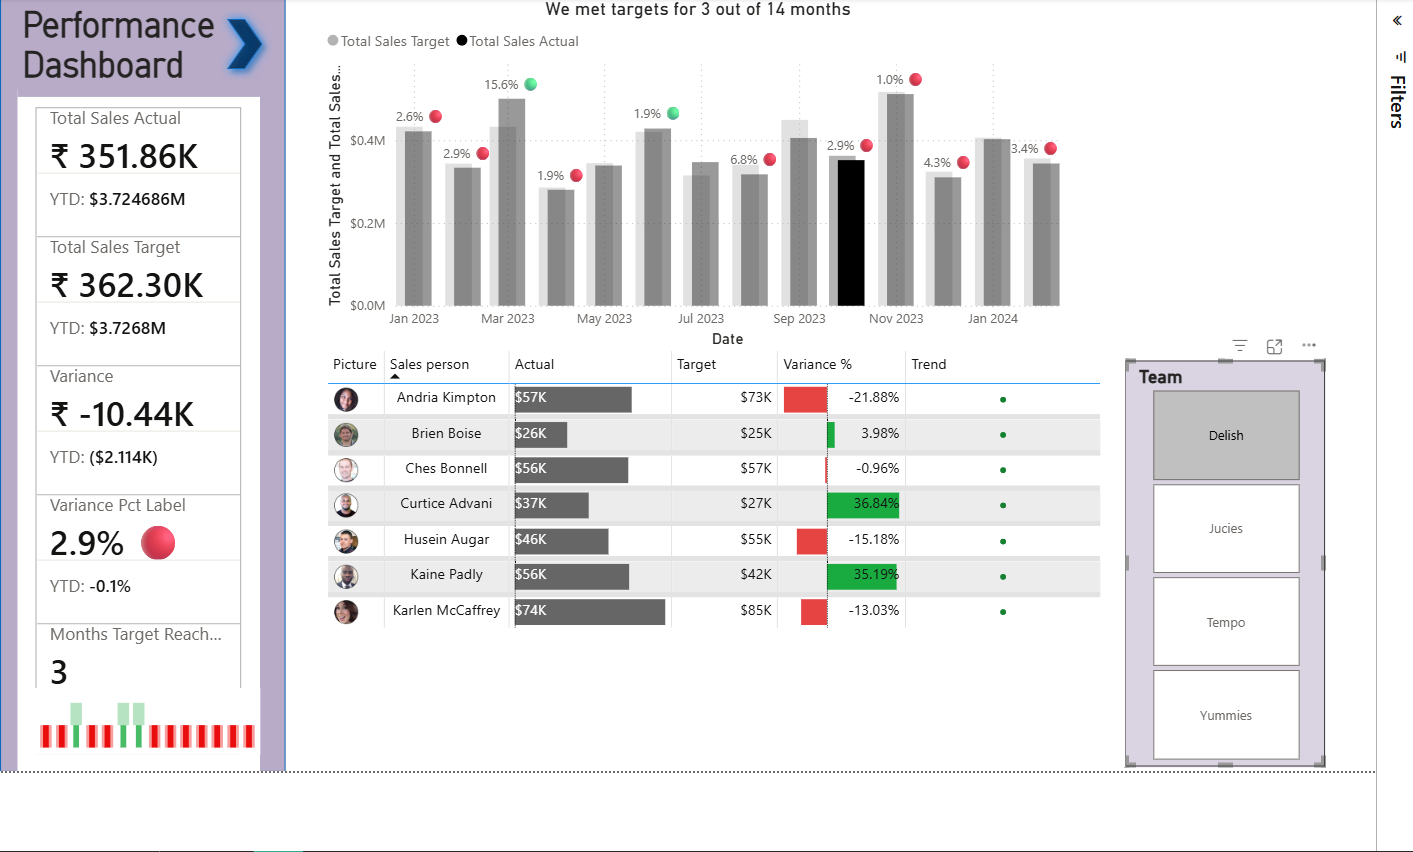

What the dashboard file says about the page in this screenshot:
{"tool":"powerbi","page":{"name":"Page 1","canvas":[1280,720],"ordinal":0},"visuals":[{"type":"shape","box":[0,0,265.7,720],"z":0},{"type":"cardVisual","fields":{"Data":["Actual.Total Sales Actual","Targets.Total Sales Target","Actual.Variance","Actual.Variance Pct Label","Actual.Months Target Reached"]},"box":[16.4,84.9,226,635.1],"z":1000},{"type":"columnChart","fields":{"Category":["Calendar.Date"],"Y":["Actual.Target Status"]},"box":[32.7,642.1,209.6,61.6],"z":1001},{"type":"clusteredColumnChart","fields":{"Category":["Calendar.Date"],"Y":["Targets.Total Sales Target","Actual.Total Sales Actual"]},"box":[299,0,701,330],"z":1002},{"type":"slicer","fields":{"Values":["dimPeople.Team"]},"box":[1047,337,186,378],"z":1003},{"type":"tableEx","fields":{"Values":["dimPeople.Picture","dimPeople.Sales person","Actual.Total Sales Actual","Targets.Total Sales Target","Actual.Variance %","SparklineData(Targets.Total Sales Target_[Calendar.Date])"]},"box":[299,323,748,392],"z":1004},{"type":"textbox","box":[1008,0,247,306],"z":1006},{"type":"textbox","box":[16.4,0,236.1,91.9],"z":1007},{"type":"shape","box":[201.8,10.1,50.6,64.7],"z":1008}]}

Visuals, with their boxes on the page's 1280x720 design canvas (x1, y1, x2, y2). These are canvas units, not pixel positions in the 1413x852 screenshot, which may show the page scaled, cropped or inside an application window:
shape: (left=0, top=0, right=266, bottom=720)
cardVisual - Actual.Total Sales Actual x Targets.Total Sales Target: (left=16, top=85, right=242, bottom=720)
columnChart - Calendar.Date x Actual.Target Status: (left=33, top=642, right=242, bottom=704)
clusteredColumnChart - Calendar.Date x Targets.Total Sales Target: (left=299, top=0, right=1000, bottom=330)
slicer - dimPeople.Team: (left=1047, top=337, right=1233, bottom=715)
tableEx - dimPeople.Picture x dimPeople.Sales person: (left=299, top=323, right=1047, bottom=715)
textbox: (left=1008, top=0, right=1255, bottom=306)
textbox: (left=16, top=0, right=252, bottom=92)
shape: (left=202, top=10, right=252, bottom=75)
